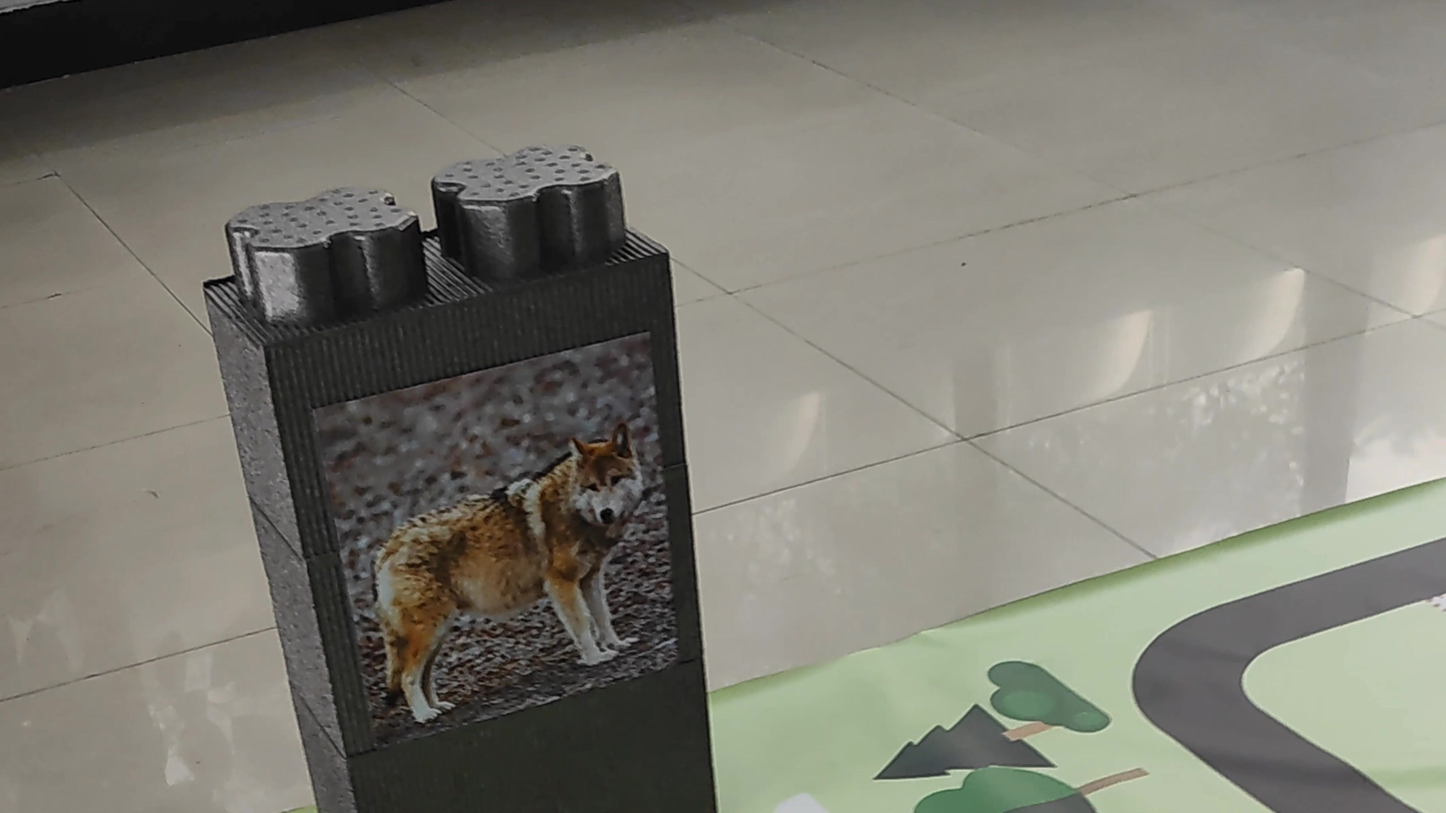wolf: (356, 429, 671, 698)
